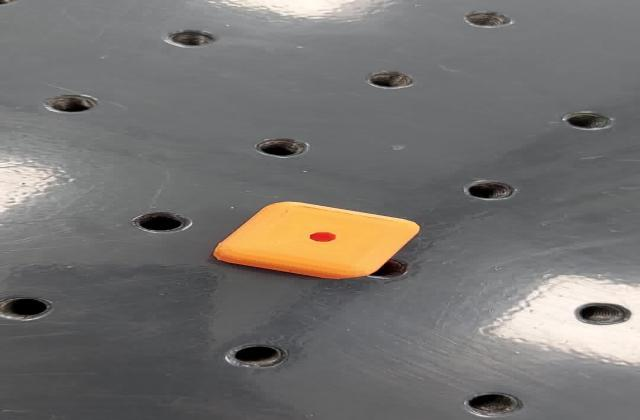cube: (205, 198, 426, 282)
